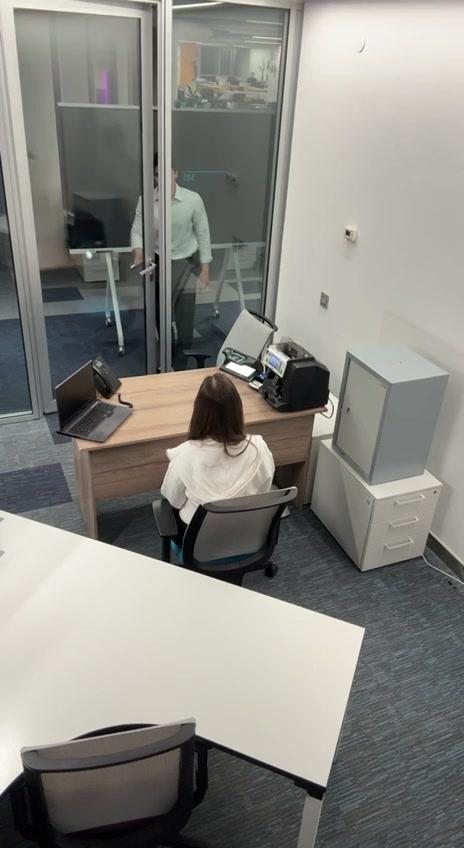counter: (261, 341, 328, 412)
door_open: (150, 4, 161, 375)
uv_lamp: (220, 347, 262, 381)
